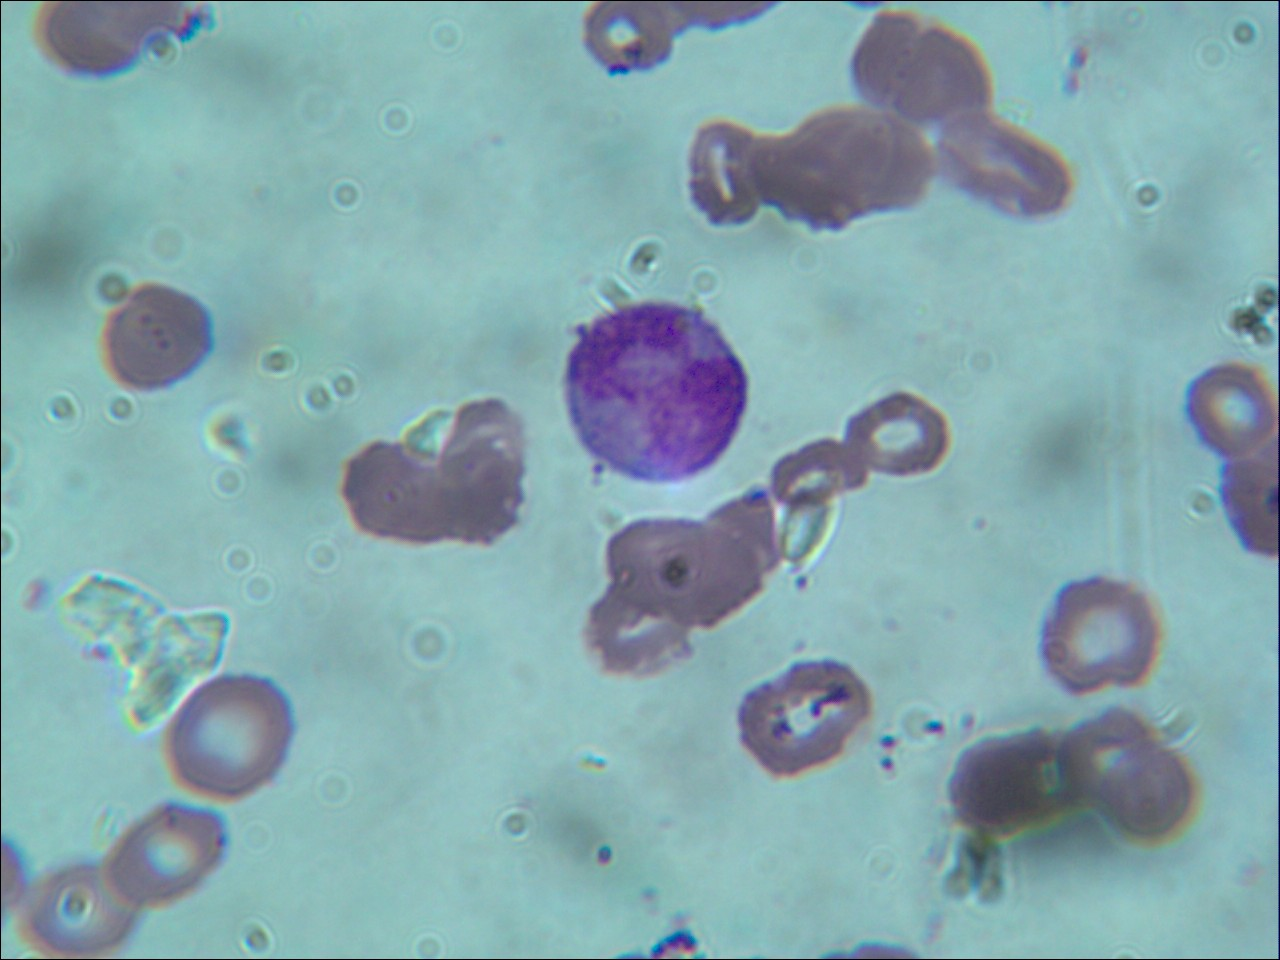Eritrosit: (605, 511, 758, 631), (730, 656, 874, 781), (167, 674, 295, 805), (931, 108, 1071, 224), (434, 394, 537, 552), (855, 9, 992, 125), (809, 106, 937, 230), (103, 802, 231, 921), (1040, 572, 1164, 693), (945, 724, 1071, 837), (339, 444, 464, 550), (102, 283, 217, 393), (21, 864, 145, 960), (584, 580, 695, 680), (758, 124, 855, 237), (1098, 747, 1203, 843), (845, 394, 953, 480), (1186, 364, 1280, 459), (1064, 705, 1153, 805), (686, 122, 768, 227), (40, 1, 148, 78), (580, 1, 670, 84), (768, 437, 864, 511)
Limfoblast: (559, 302, 753, 486)
Platelet: (587, 837, 617, 874), (84, 643, 120, 674), (17, 580, 49, 612), (915, 715, 948, 744), (878, 750, 905, 778), (1068, 42, 1096, 71), (868, 727, 898, 750), (792, 567, 811, 594), (1064, 74, 1083, 96)
